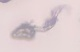microplastic: (33, 4, 66, 34), (10, 22, 35, 40), (1, 1, 11, 4)
